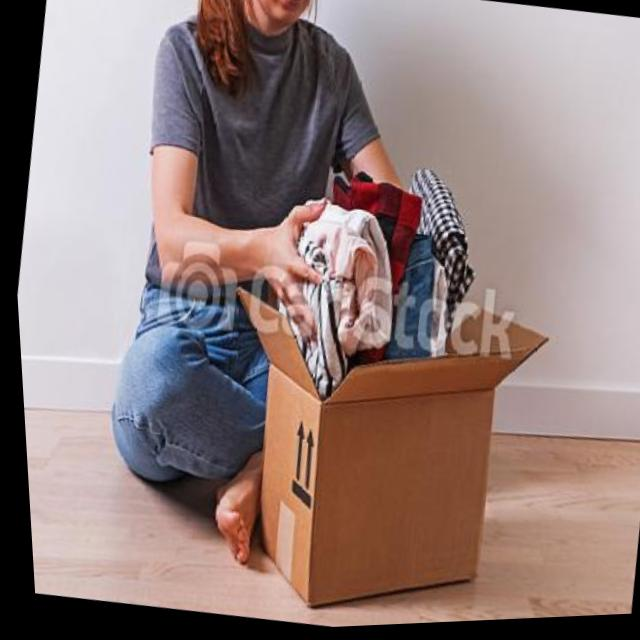box: (187, 259, 573, 634)
